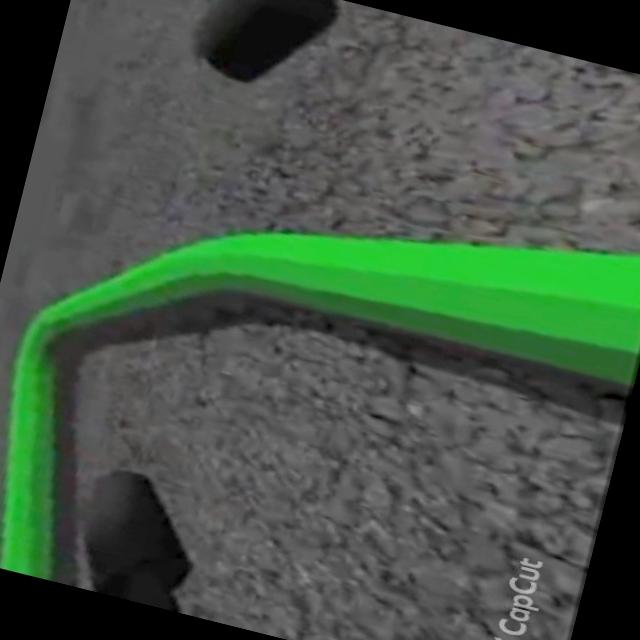gas: (103, 122, 640, 430)
